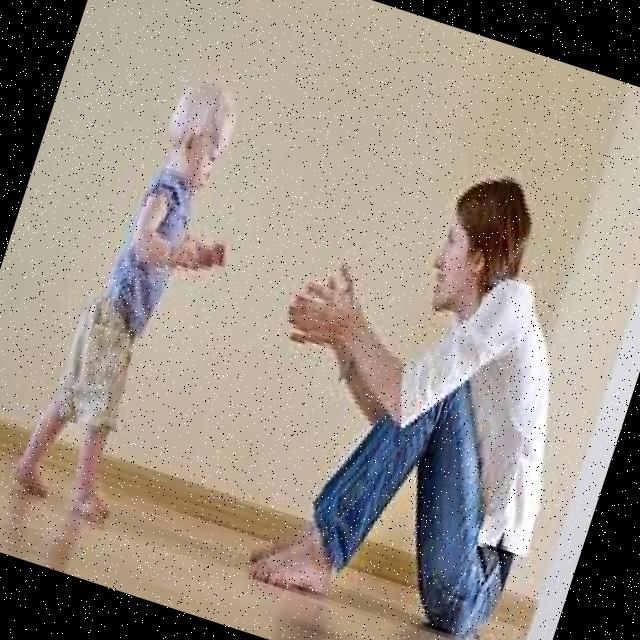Person: (210, 128, 636, 640), (9, 61, 276, 534)
